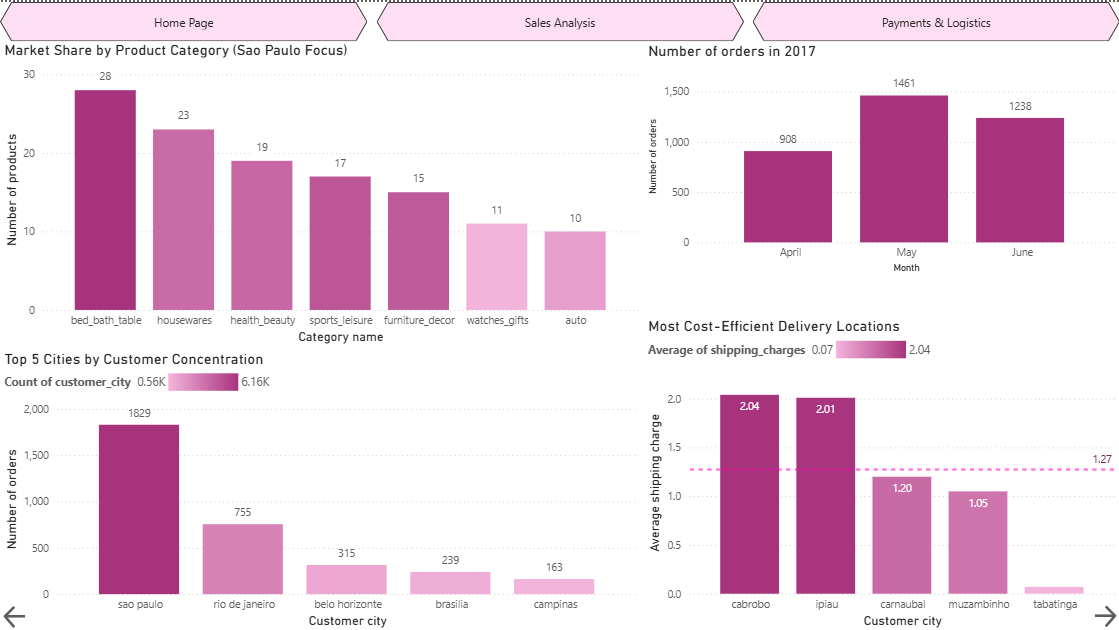

The dashboard page shown, as its layout file describes it:
{"tool":"powerbi","page":{"name":"Orders & Cities","canvas":[1280,720],"ordinal":1},"visuals":[{"type":"clusteredColumnChart","title":"Top 5 Cities by Customer Concentration","fields":{"Category":["df_Customers.customer_city"],"Y":["CountNonNull(df_Orders.order_id)"]},"box":[0,396.7,735,323.3],"z":0},{"type":"clusteredColumnChart","title":"Most Cost-Efficient Delivery Locations","fields":{"Y":["Avg(df_OrderItems.shipping_charges)"],"Category":["df_Customers.customer_city"]},"box":[735,360,545,360],"z":1000},{"type":"lineStackedColumnComboChart","title":"Market Share by Product Category (Sao Paulo Focus)","fields":{"Category":["df_Products.product_category_name"],"Y":["CountNonNull(df_OrderItems.product_id)"]},"box":[0,45,735,351.7],"z":2000},{"type":"pageNavigator","box":[0,0,1280,45],"z":3000},{"type":"clusteredColumnChart","title":"Number of orders in 2017","fields":{"Y":["CountNonNull(df_Orders.order_id)"],"Category":["df_Orders.order_purchase_timestamp.Variation.Date Hierarchy.Year","df_Orders.order_purchase_timestamp.Variation.Date Hierarchy.Quarter","df_Orders.order_purchase_timestamp.Variation.Date Hierarchy.Month"]},"box":[736.1,45.2,544.2,269],"z":4000},{"type":"actionButton","box":[1246.1,684.8,34.2,35.5],"z":5000},{"type":"actionButton","box":[0,686,42.8,34.2],"z":6000}]}

Visuals, with their boxes in screenshot pixels (x1, y1, x2, y2), scaled from the page's 1280x720 canvas onto the 1119x630 screenshot:
"Top 5 Cities by Customer Concentration" clusteredColumnChart: rect(0, 347, 643, 629)
"Most Cost-Efficient Delivery Locations" clusteredColumnChart: rect(643, 315, 1118, 629)
"Market Share by Product Category (Sao Paulo Focus)" lineStackedColumnComboChart: rect(0, 39, 643, 347)
pageNavigator: rect(0, 0, 1118, 39)
"Number of orders in 2017" clusteredColumnChart: rect(644, 40, 1118, 275)
actionButton: rect(1089, 599, 1118, 629)
actionButton: rect(0, 600, 37, 629)
